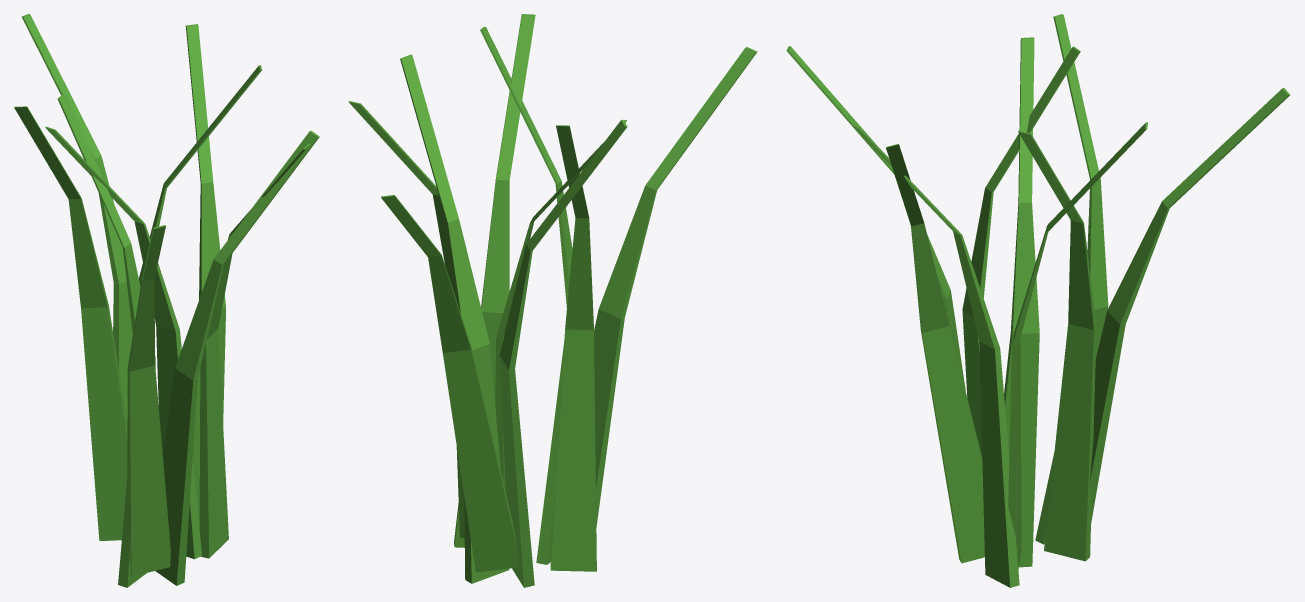
Rendered from TRAWA2.fbx.
3 views of the same model, side by side, from view 1: azimuth 30°, elevation 25°; view 2: azimuth 150°, elevation 25°; view 3: azimuth 270°, elevation 25° (orthographic). The views are drawn at different scales.
Visible parts, largest first — view 1: TRAWA, Cube.014, Cube.015; view 2: Cube.014, TRAWA, Cube.015; view 3: Cube.014, Cube.015, TRAWA.
Part boxes in pixels (box(x1,y1,x2,y2)): TRAWA: box(57, 93, 319, 587); Cube.014: box(14, 14, 261, 540); Cube.015: box(45, 24, 310, 559); Cube.014: box(381, 54, 627, 587); TRAWA: box(480, 27, 757, 571); Cube.015: box(348, 14, 626, 547); Cube.014: box(1018, 14, 1289, 561); Cube.015: box(851, 37, 1148, 587); TRAWA: box(786, 46, 1080, 563).
Size of the model in its own units: 91.63 by 178 by 166.
